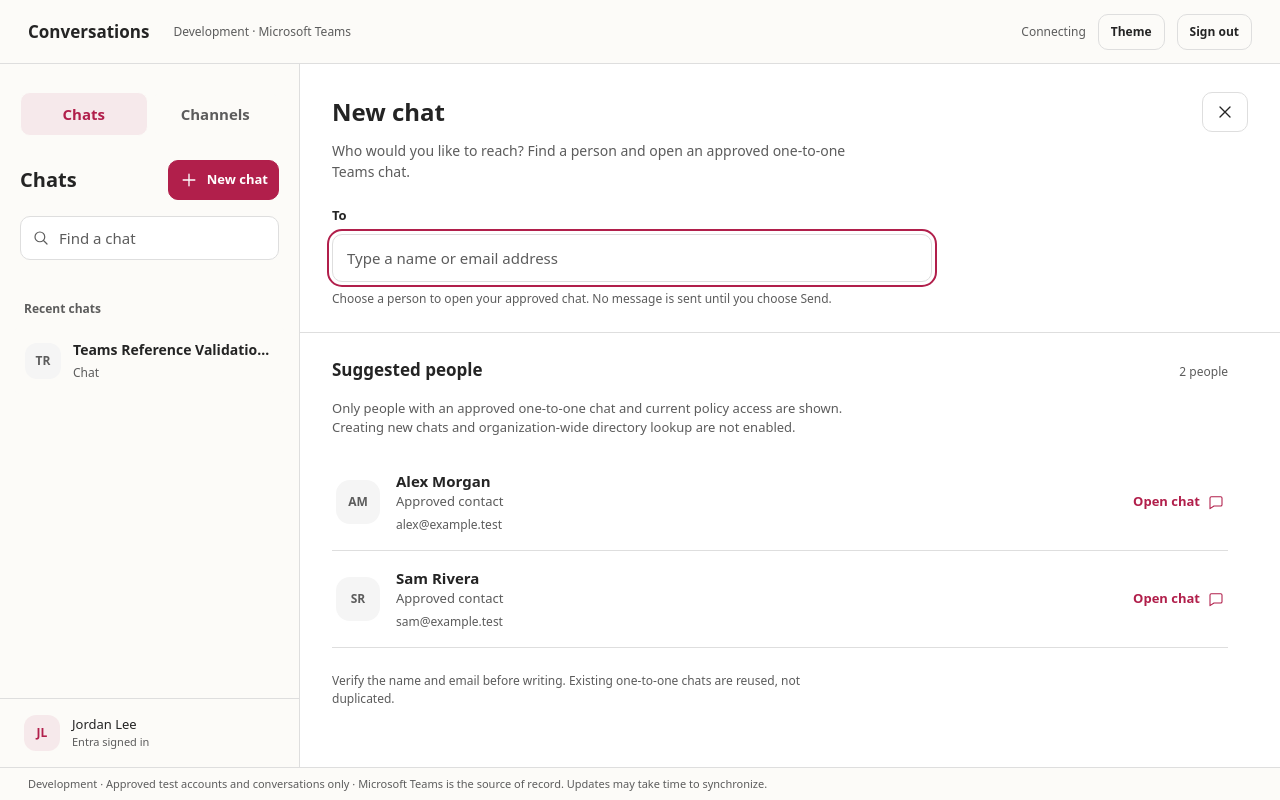
Test case: shows an explicit preparation failure without automatic retry or a fake composer
Click the button with aria-label "Choose: Alex Morgan, alex@example.test" at [358, 502], box [332,454,1228,550]
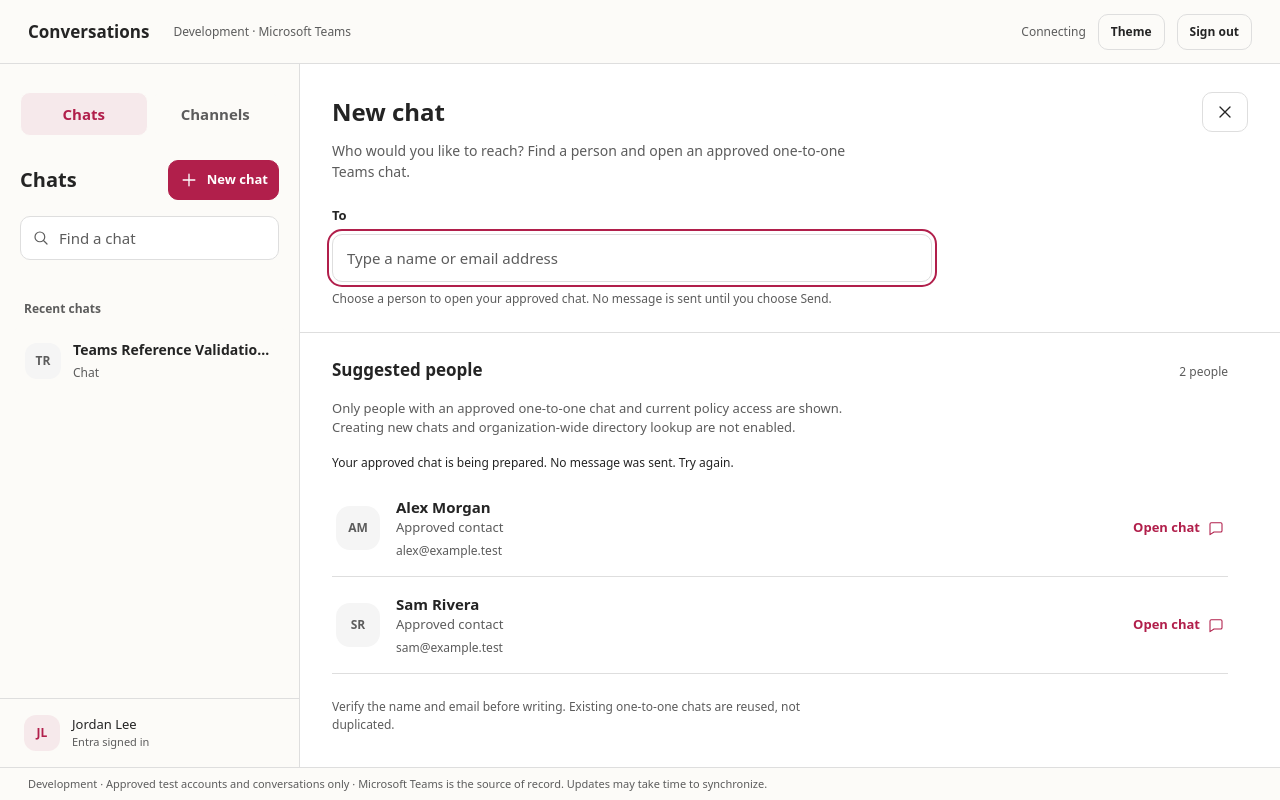
expect the button with aria-label "Choose: Alex Morgan, alex@example.test" is enabled: met, box [332,480,1228,576]
expect the message "Your approved chat is being prepared. No message was sent. Try again." is shown: met, box [332,454,734,470]
